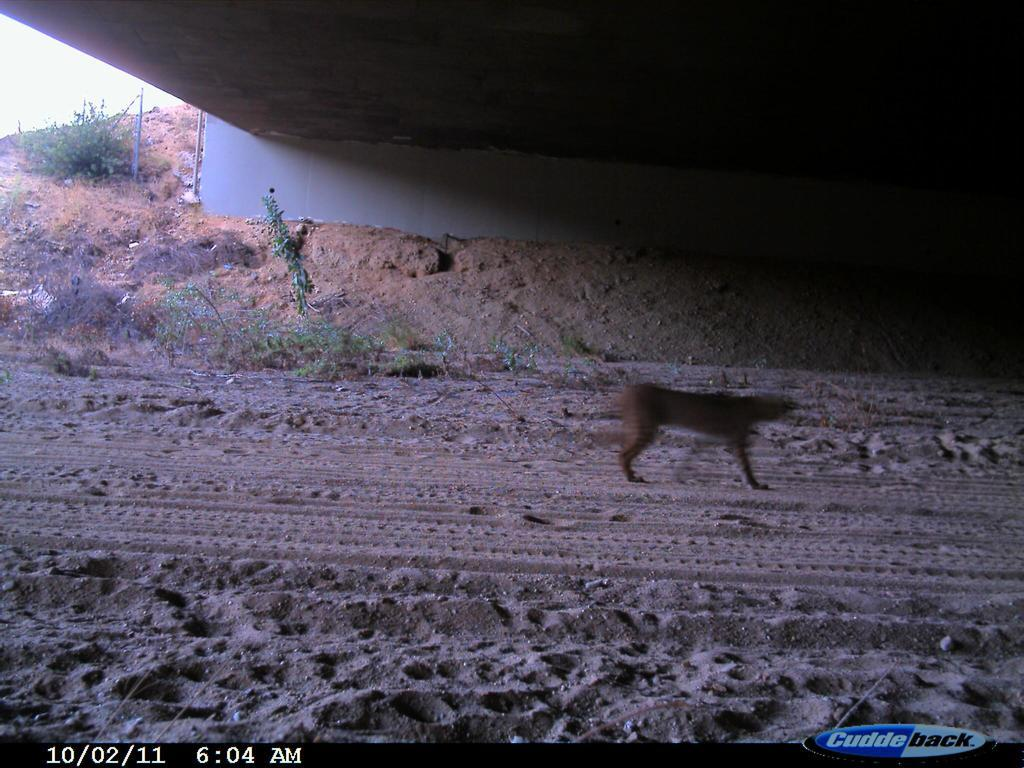bobcat: (601, 372, 806, 501)
